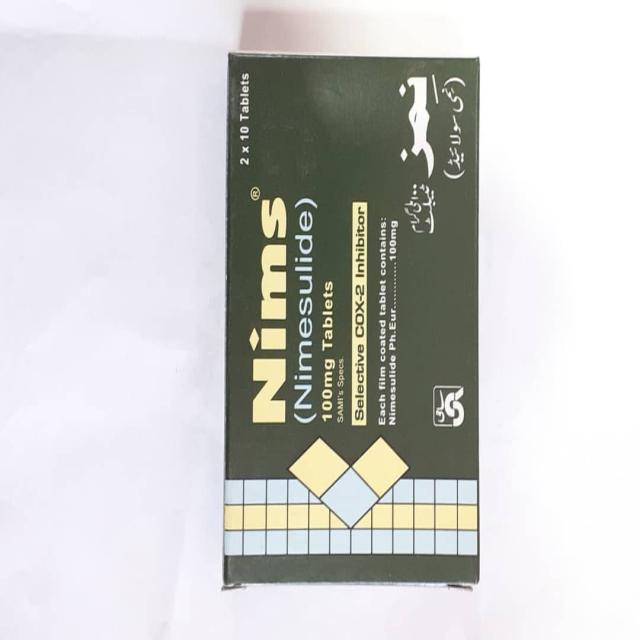drug-name: (250, 184, 292, 427)
